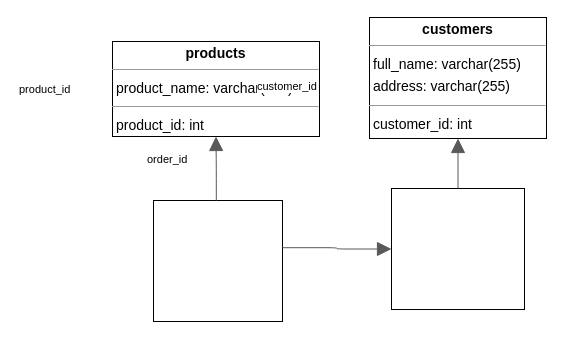
The diagram is 564 pixels wide and 339 high, and some of its shapes have lost their labels. The shapes that lost their labels are listed below. From the top down, each one's centre as x and y in pixels, then its label:
At pixel 217 261: "order_items quantity: int order_id: int product_id: int".
At pixel 457 249: "orders order_date: date customer_id: int order_id: int".
